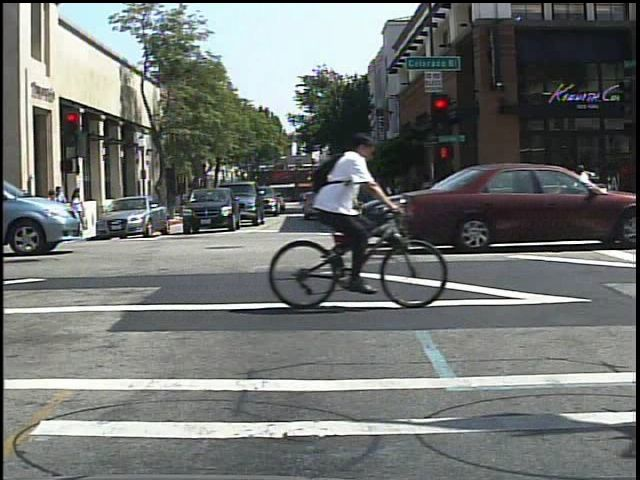person: (305, 123, 392, 302), (576, 159, 602, 224)
